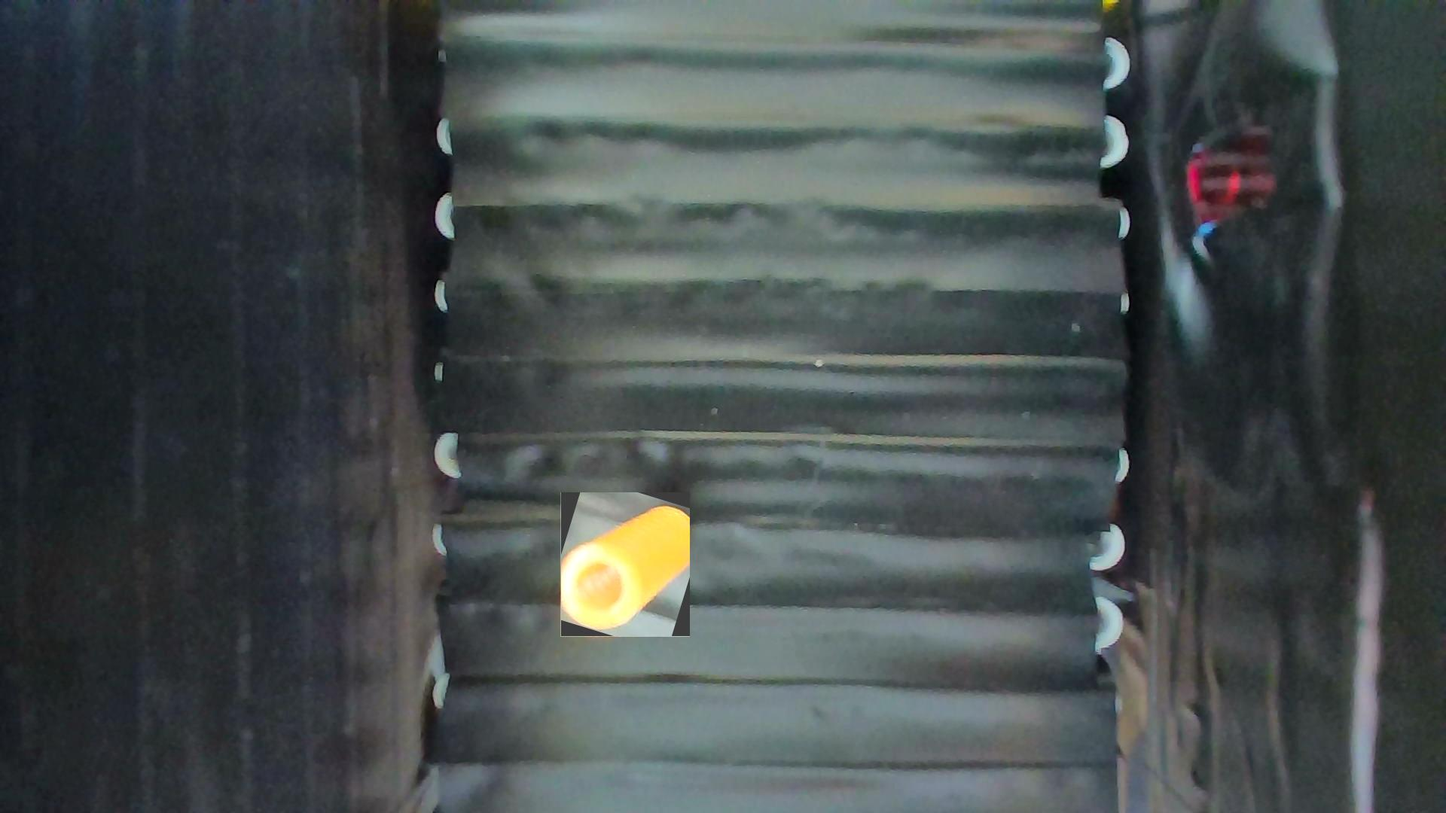spring: (560, 493, 689, 637)
